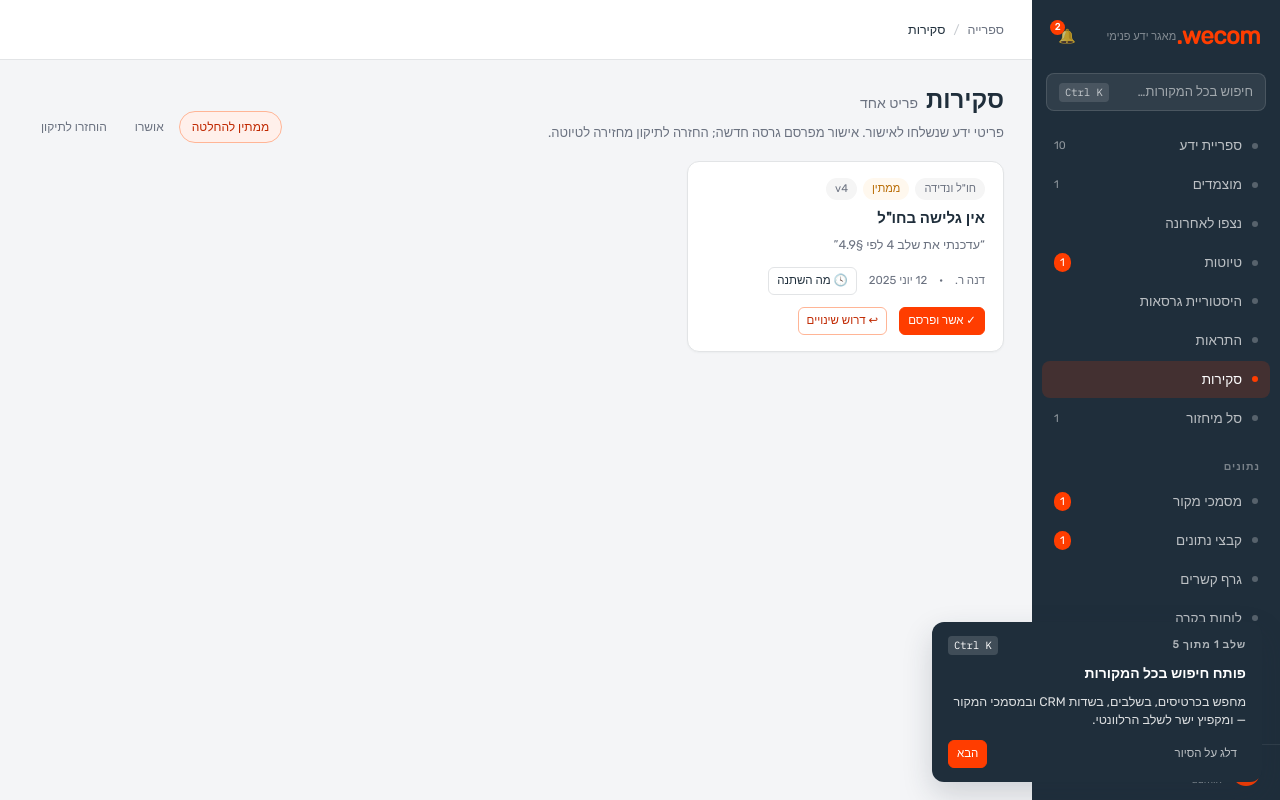
Test: V6 review-queue mounts › turns a 403 APPROVER_REQUIRED into a message instead of an unhandled rejection
Step 1. Click the button with aria-label "אשר ופרסם את" → (942, 321), box x1=899 y1=307 x2=985 y2=334
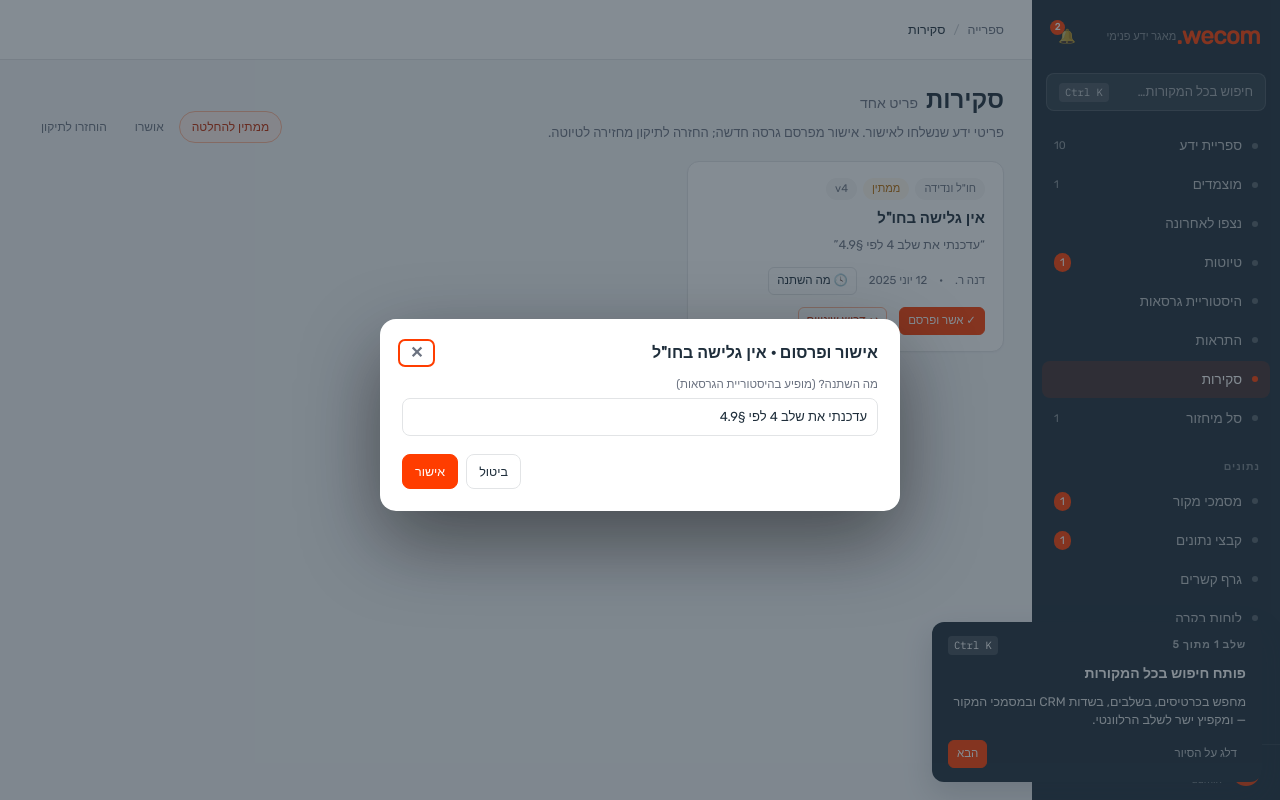
Step 2. Click the button "אישור" → (430, 471), box x1=402 y1=454 x2=458 y2=489
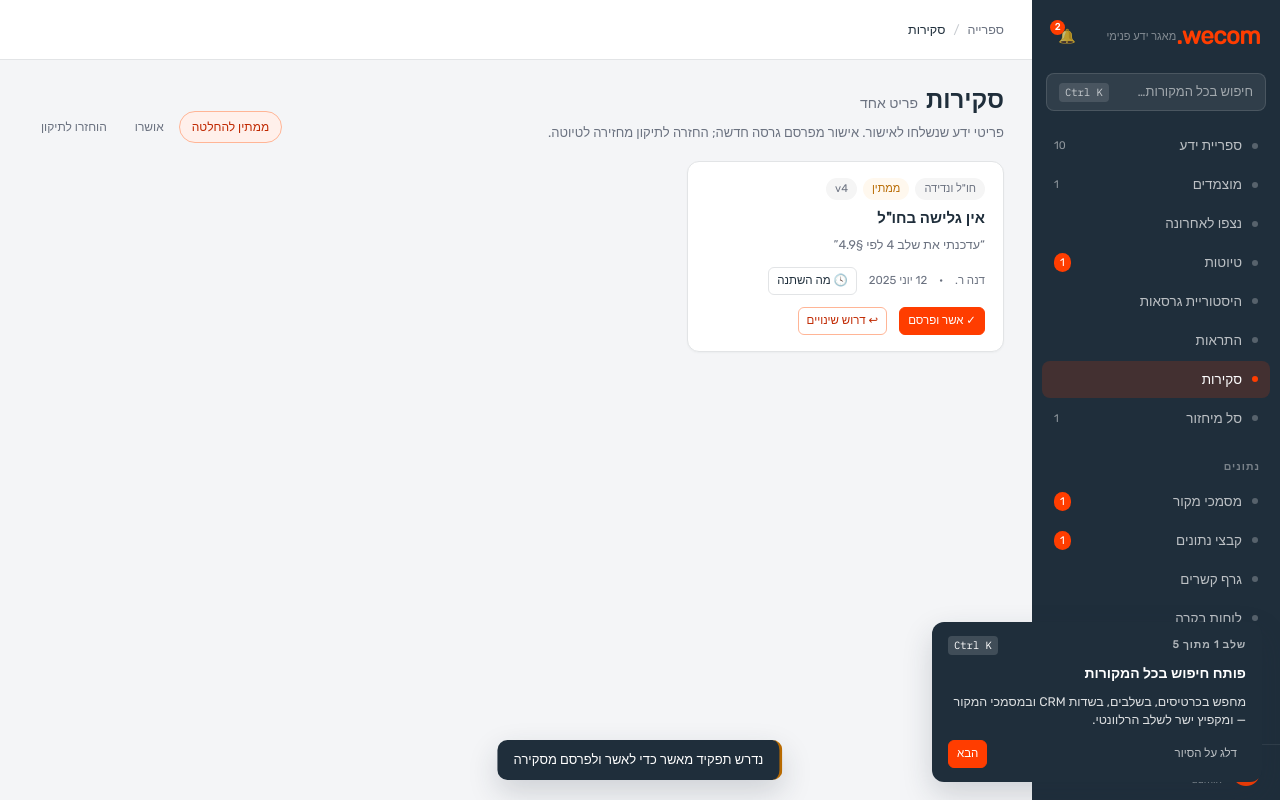
Now the text "נדרש תפקיד מאשר כדי לאשר ולפרסם מסקירה" is shown, box x1=514 y1=750 x2=764 y2=770
